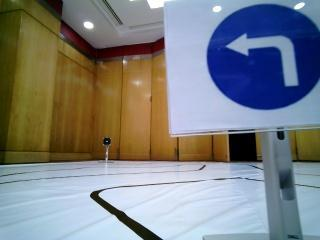left: (165, 0, 320, 126)
